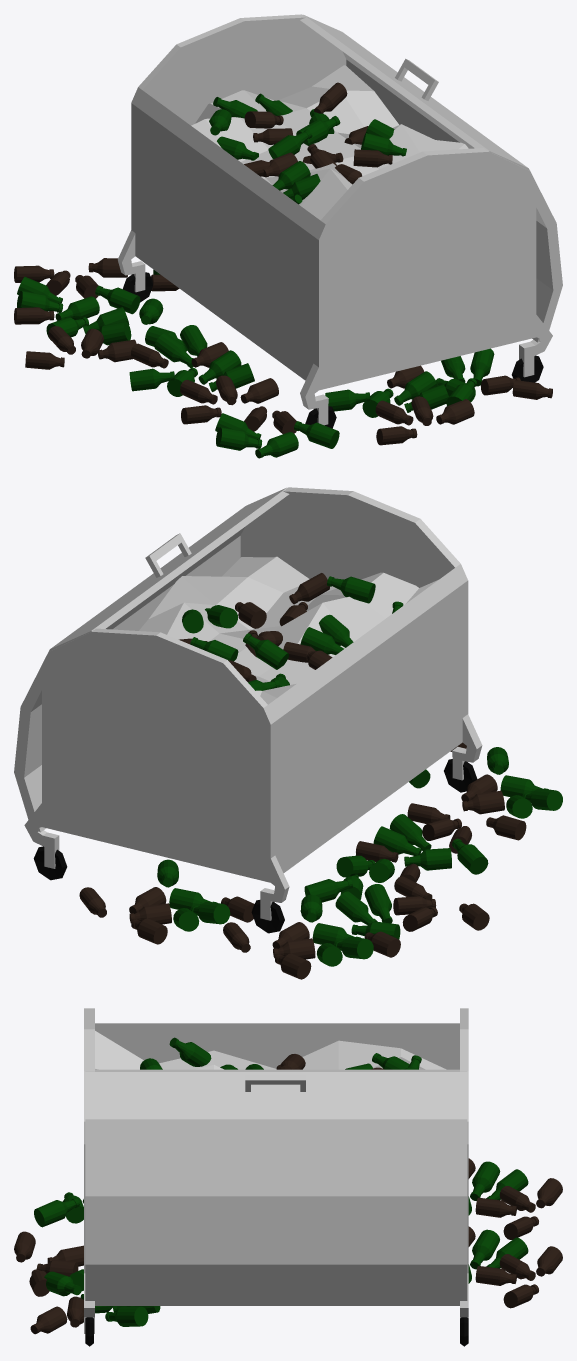
The model's file is model_Kosz_2duzy_otwarty_butle.fbx.
The picture shows the model from 3 angles, top to bottom: view 1: azimuth 30°, elevation 25°; view 2: azimuth 150°, elevation 25°; view 3: azimuth 270°, elevation 25°; orthographic projection. The views are drawn at different scales.
Parts seen in each view (by area): view 1: kosz_2_otwarty_butelki; view 2: kosz_2_otwarty_butelki; view 3: kosz_2_otwarty_butelki.
Part boxes in pixels (x1,y1,x2,y2): kosz_2_otwarty_butelki: (14, 14, 562, 458); kosz_2_otwarty_butelki: (14, 487, 562, 979); kosz_2_otwarty_butelki: (14, 1008, 562, 1346).
Bounding box in the file's own units: 318 × 170 × 275.
